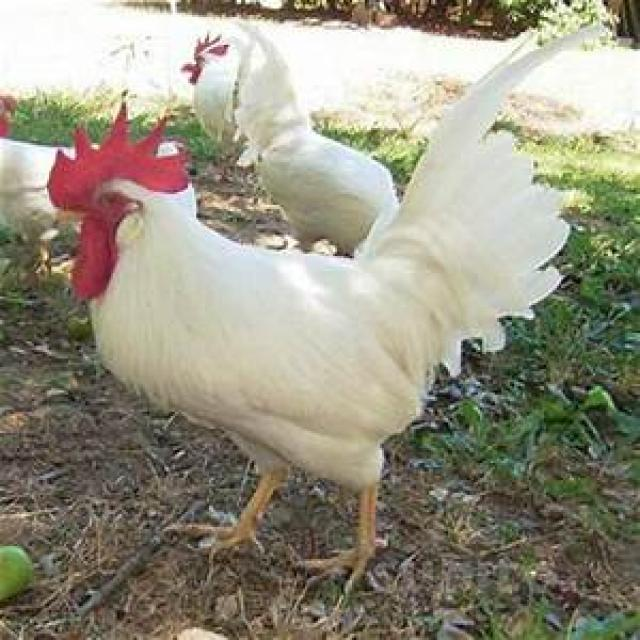hen: (47, 53, 572, 576)
